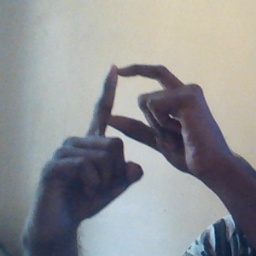D: (64, 56, 202, 170)
